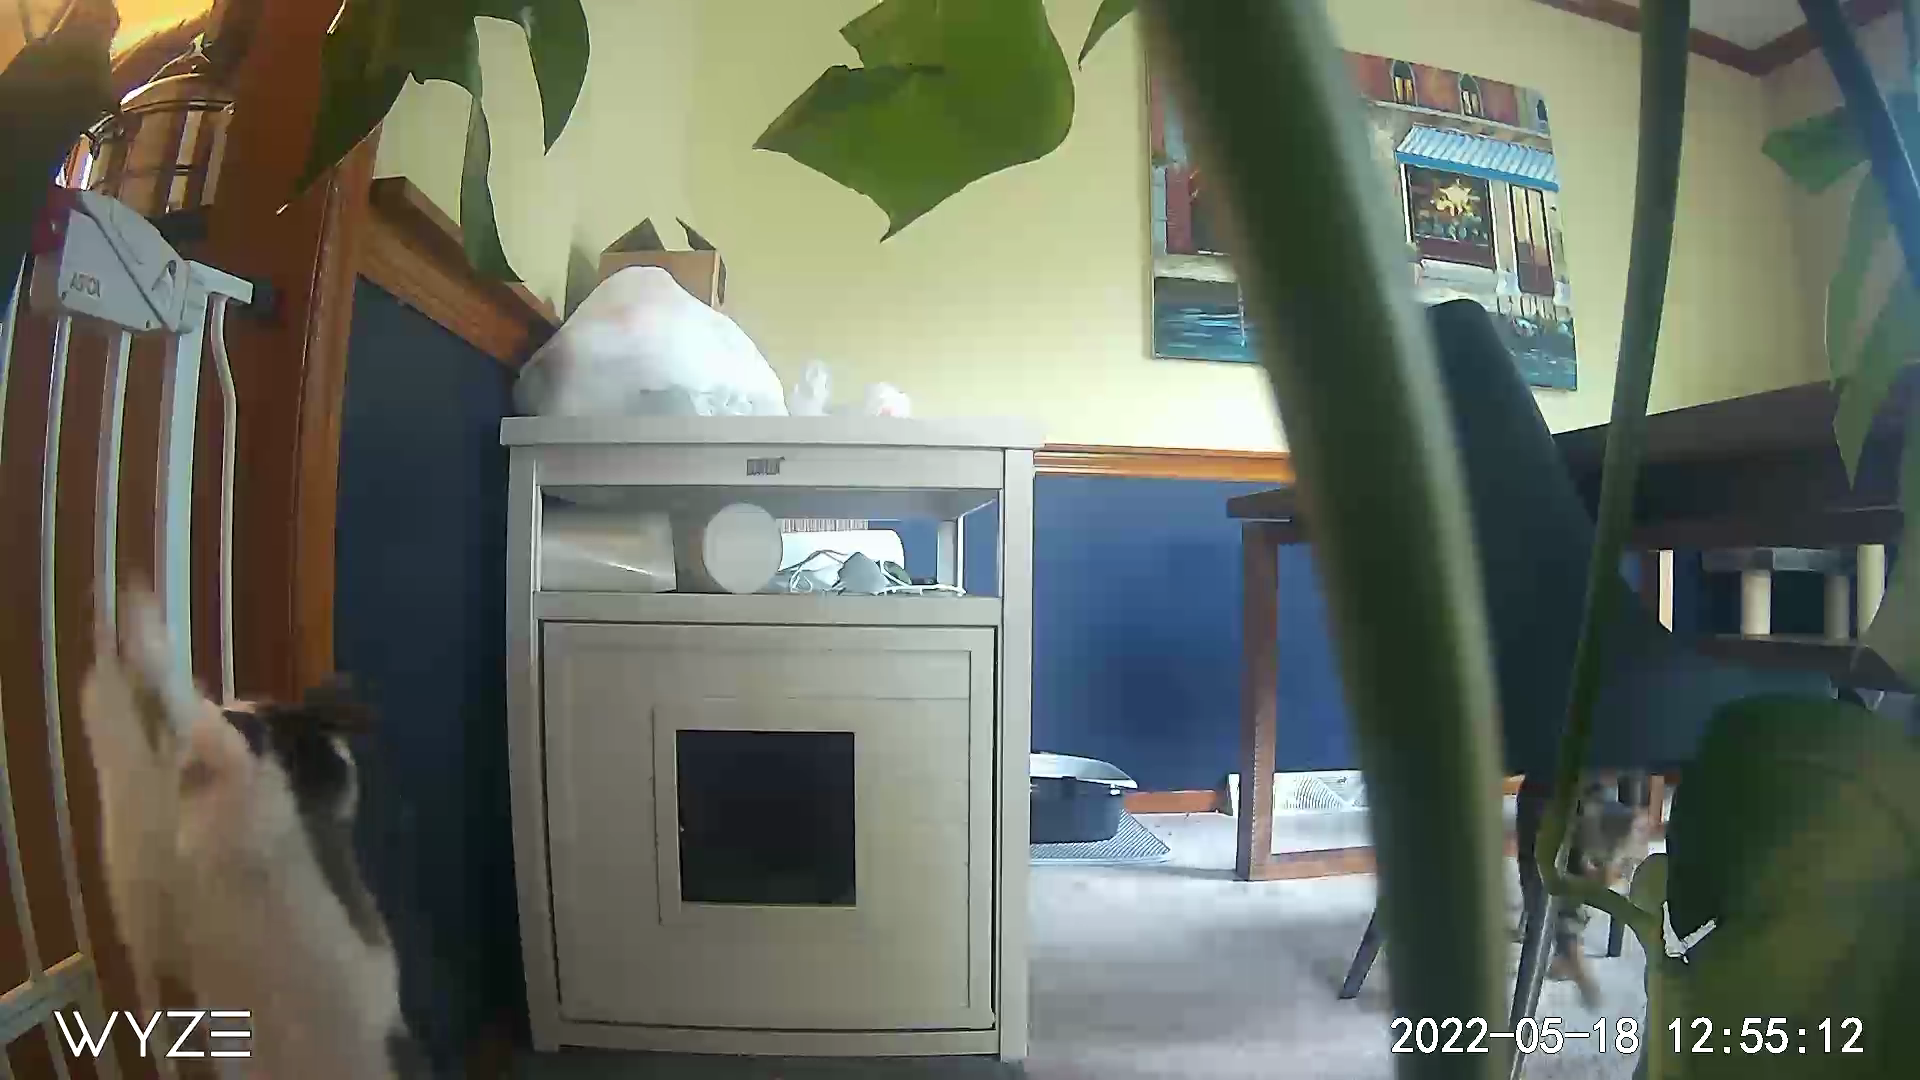maoxin: (76, 575, 417, 1001)
